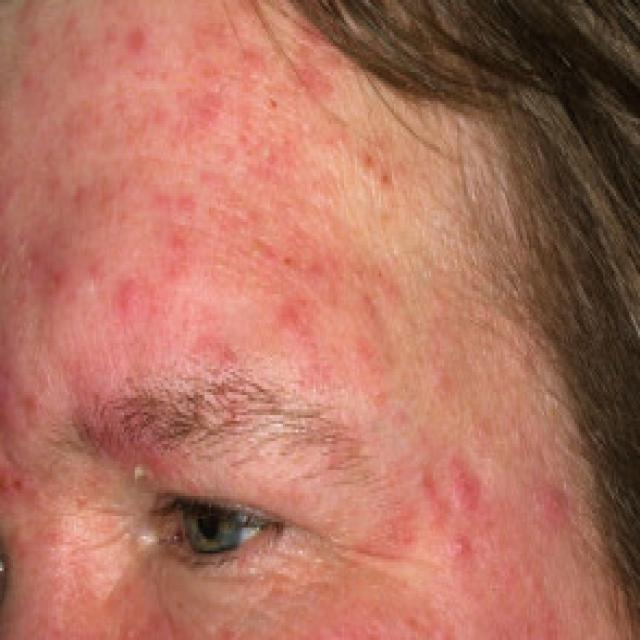Rosacea: (0, 3, 406, 384), (224, 436, 569, 640), (0, 383, 162, 640)
